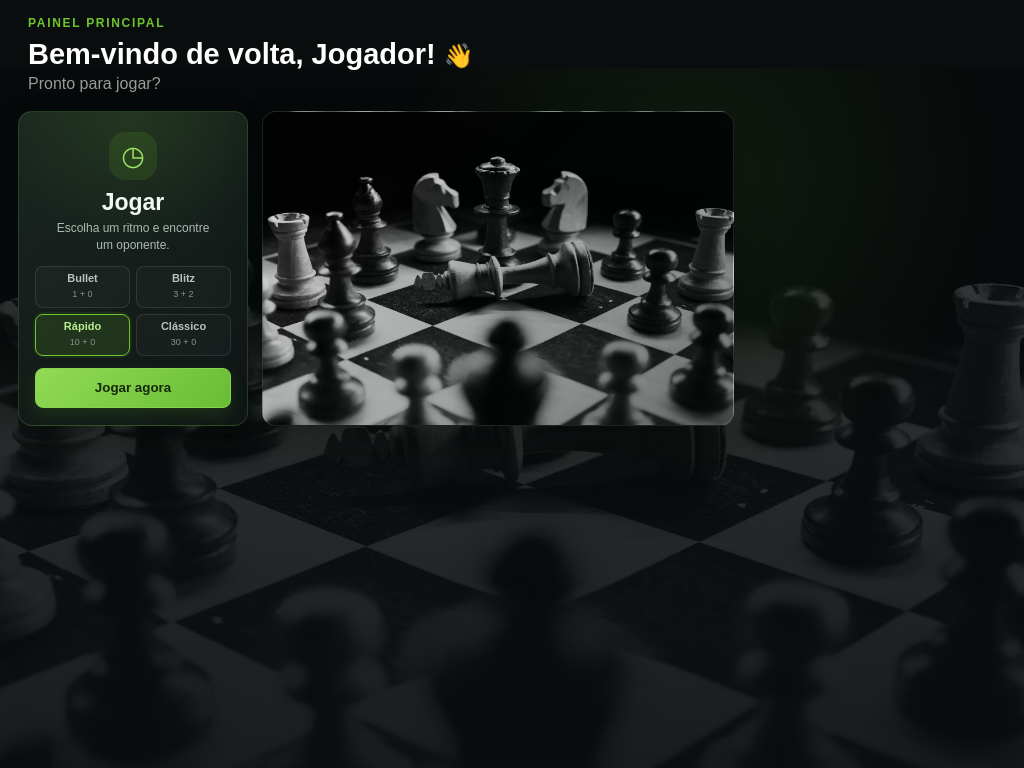
Test case: cancelamento de matchmaking no lobby › sai da fila e permite procurar outra partida
This screenshot has width=1024, height=768.
Step 1. Click the button "Jogar agora" → [133, 388], box [35,368,231,408]
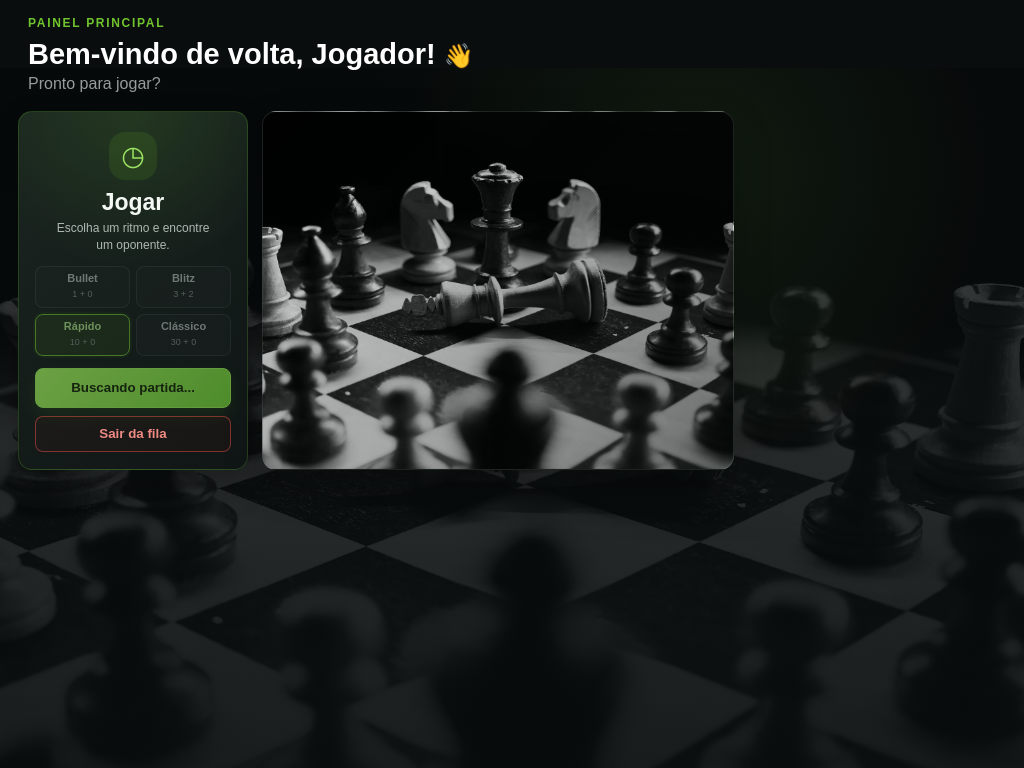
Expected: the button "Sair da fila" is enabled
Step 2. Click the button "Sair da fila" → [133, 434], box [35,416,231,452]
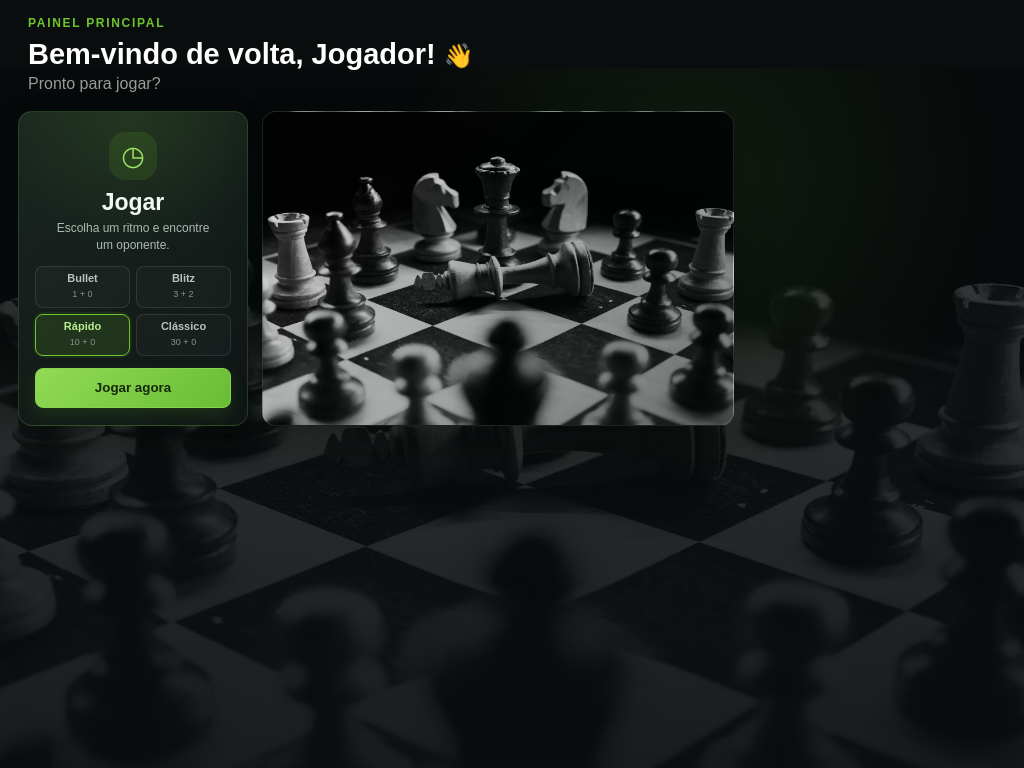
Expected: the button "Jogar agora" is enabled, [35,368,231,408]
Expected: the button "Sair da fila" is gone
Expected: the button "Blitz 3 + 2" is enabled, [136,266,231,308]
